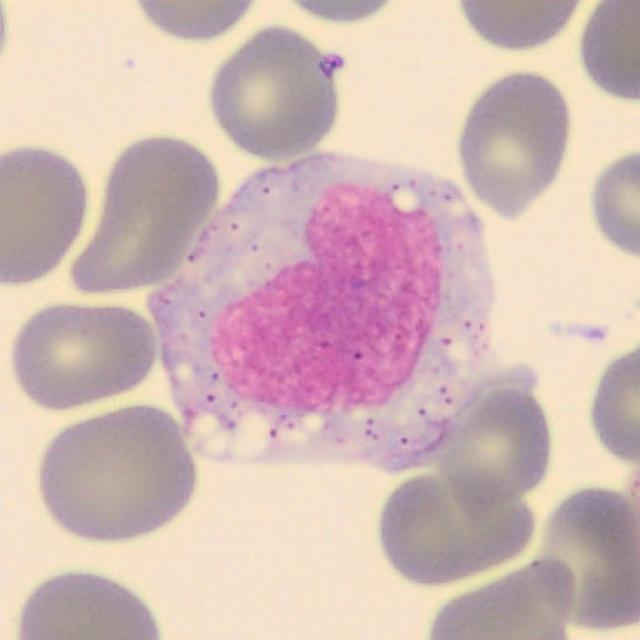Monocito: (146, 152, 496, 476)
